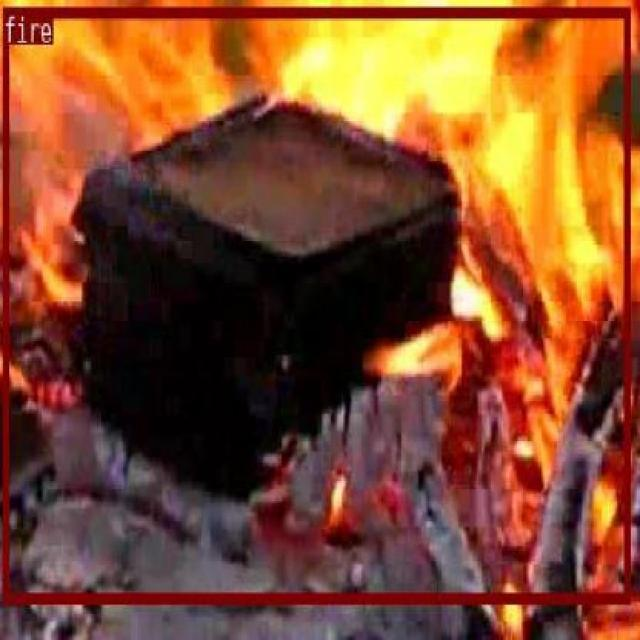Fire: (316, 303, 628, 597)
